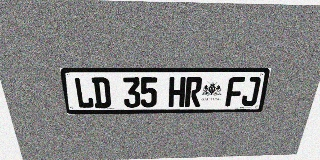3: (123, 77, 140, 108)
5: (140, 77, 157, 108)
D: (92, 77, 111, 108)
F: (225, 77, 245, 106)
H: (168, 77, 186, 107)
J: (241, 77, 261, 106)
L: (73, 77, 94, 108)
R: (184, 77, 203, 107)
